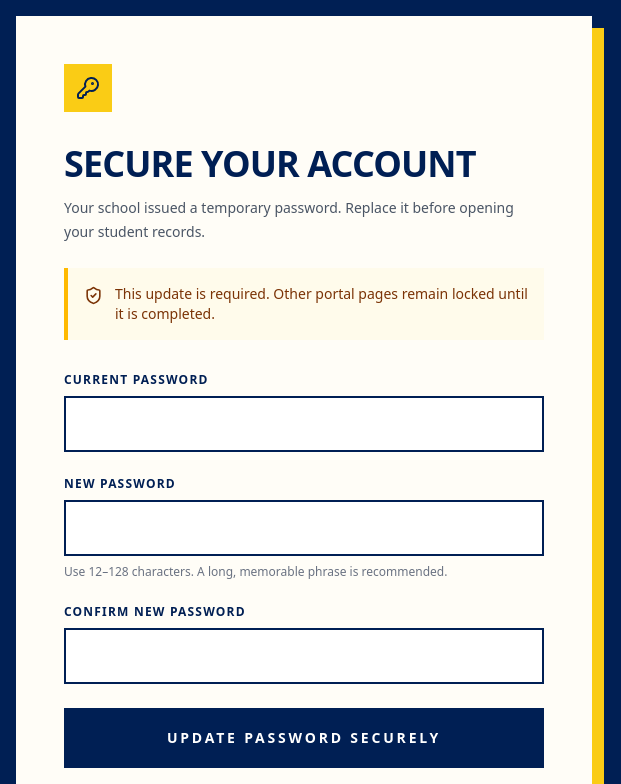
Test case: PasswordPage › blocks mismatched new passwords before contacting the API
Expected: the heading "Secure your account" is shown, [64,144,544,184]
In the password field labelled "Current password": (304,424) [64,396,544,452], type "Temporary-password-2026"
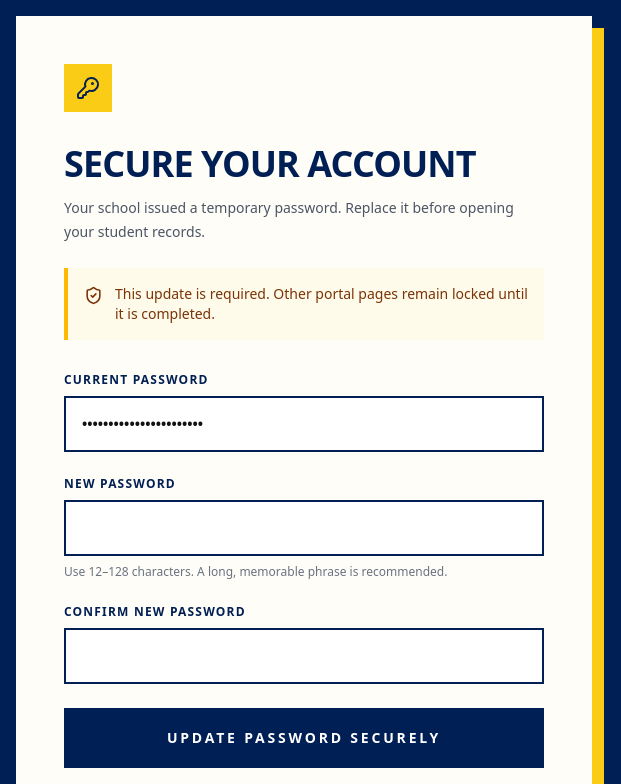
In the password field labelled "New password": (304,528) [64,500,544,556], type "A-new-password-2026"
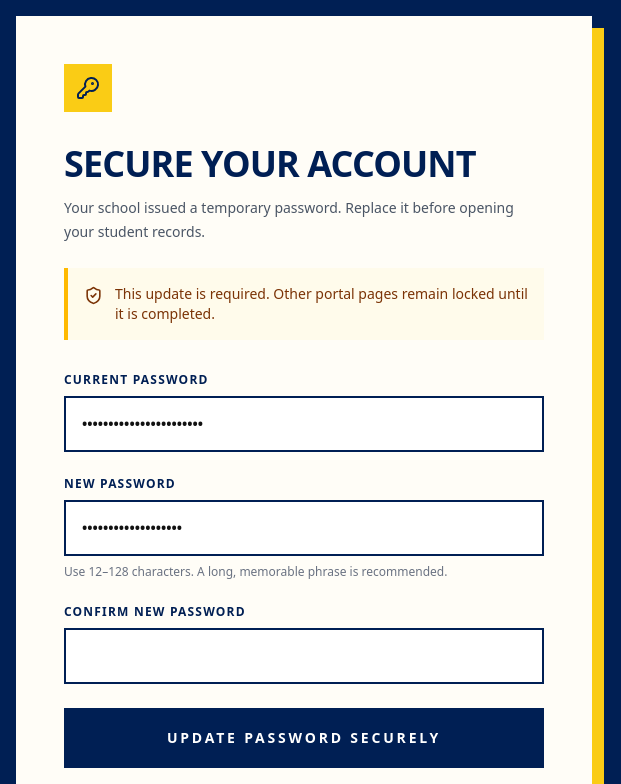
In the password field labelled "Confirm new password": (304,656) [64,628,544,684], type "A-different-password-2026"
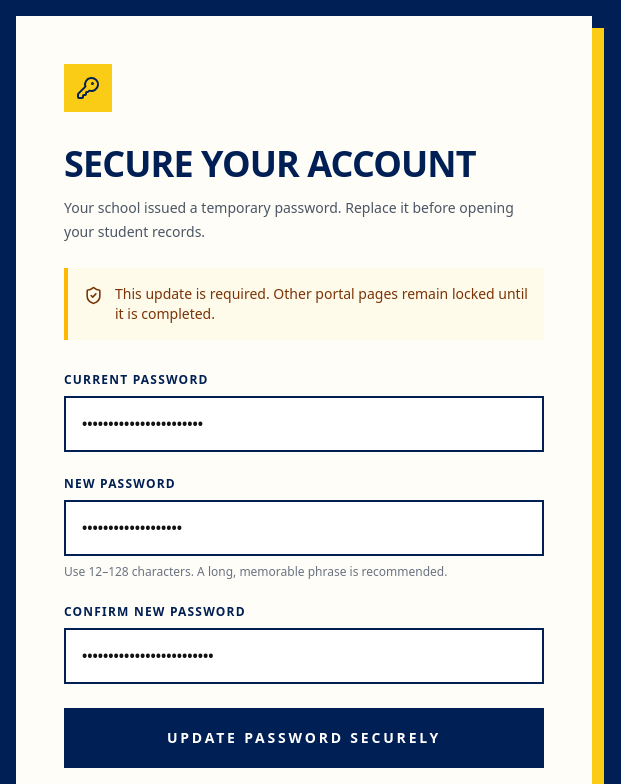
Submit the form named "Update password securely", box [64,372,544,768]
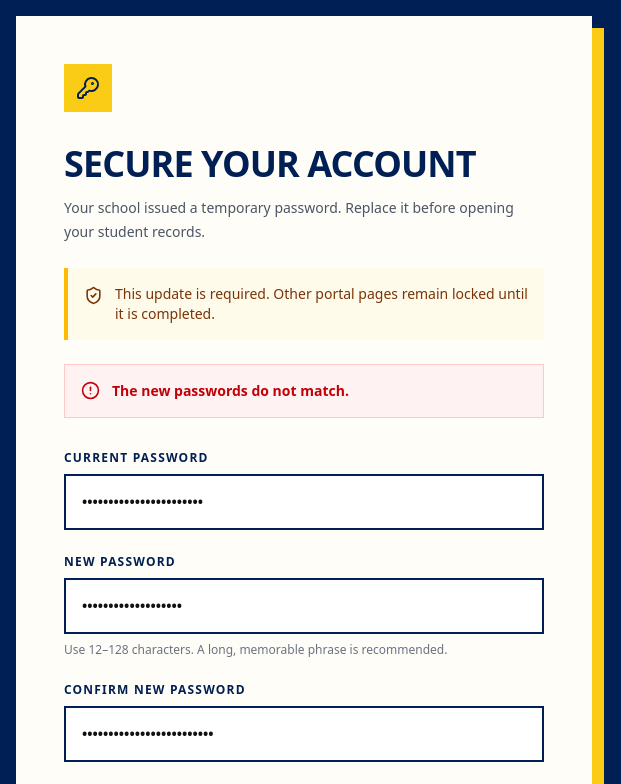
Result: the message reads "The new passwords do not match." at [112,381,349,400]
